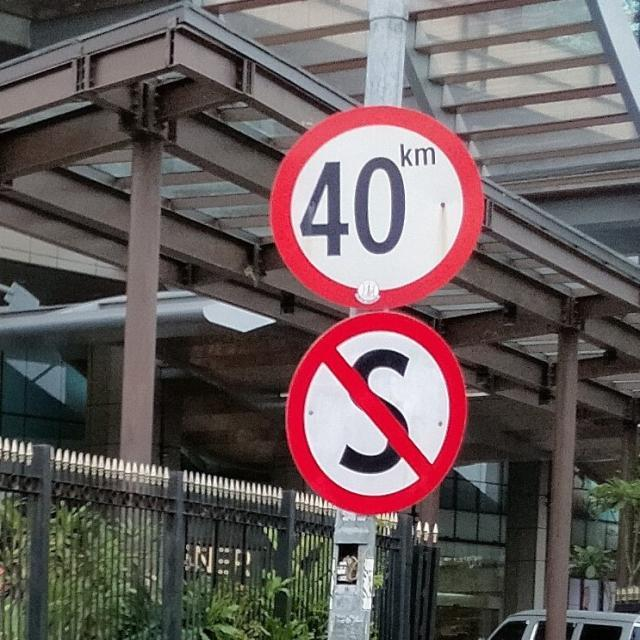Dilarang Berhenti: (287, 310, 463, 514)
Kecepatan Maks. 40 km: (266, 102, 484, 312)
